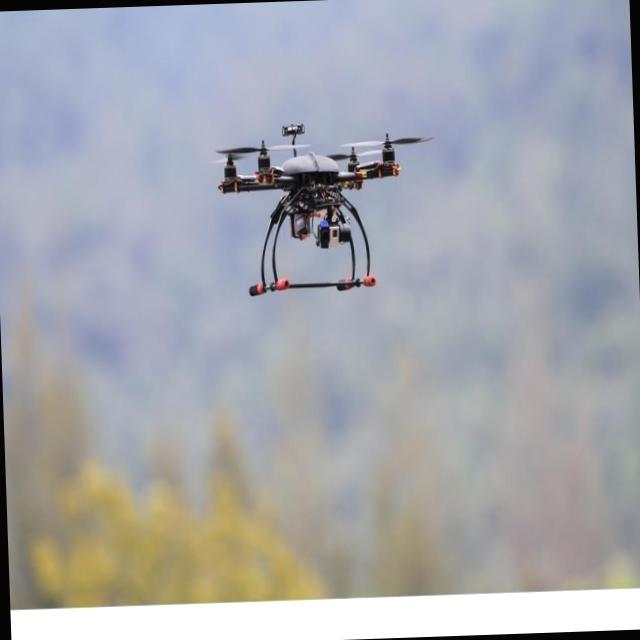drone: (213, 115, 439, 298)
